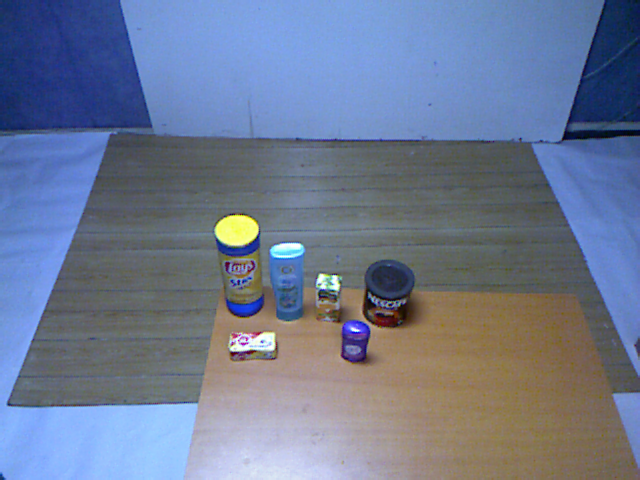balsamo: (265, 236, 306, 321)
cafe: (358, 258, 414, 330)
desodorante: (338, 316, 371, 369)
jugoind: (310, 270, 346, 324)
mantequilla: (223, 327, 281, 361)
papas: (210, 212, 267, 319)
